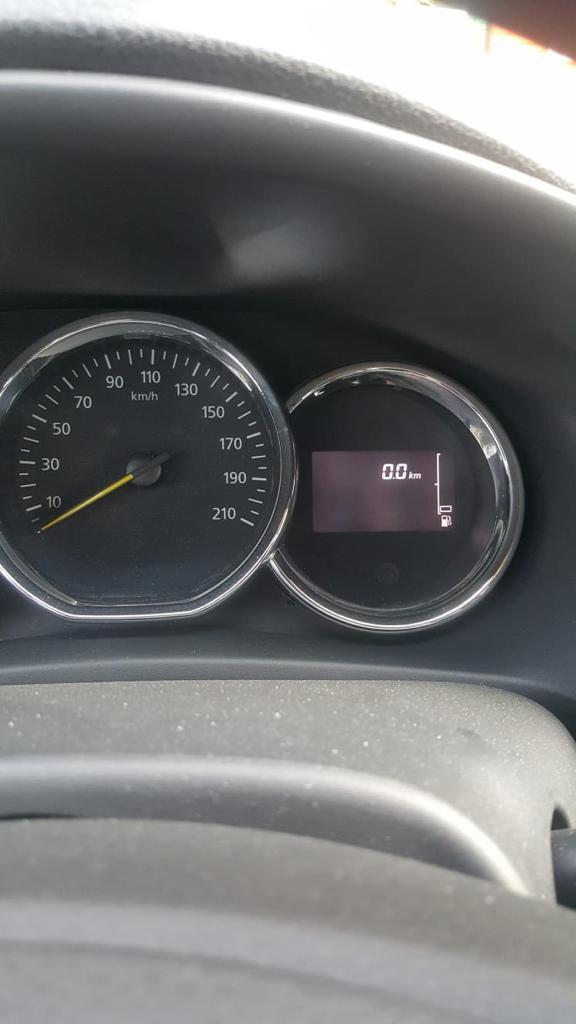,: (392, 476, 395, 479)
0: (381, 463, 393, 479), (395, 463, 407, 479)
X: (413, 473, 421, 479), (408, 471, 413, 479)
odometer: (309, 448, 458, 534)
